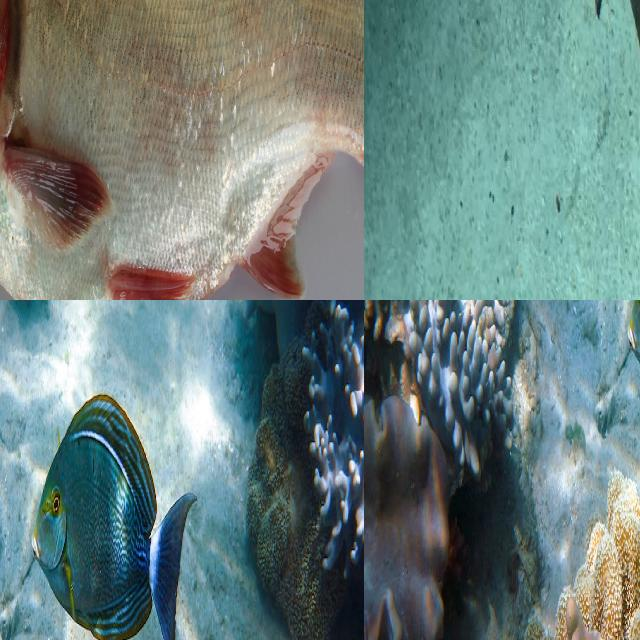fish: (0, 0, 364, 300), (0, 379, 211, 640), (559, 0, 640, 300), (577, 300, 640, 640)
